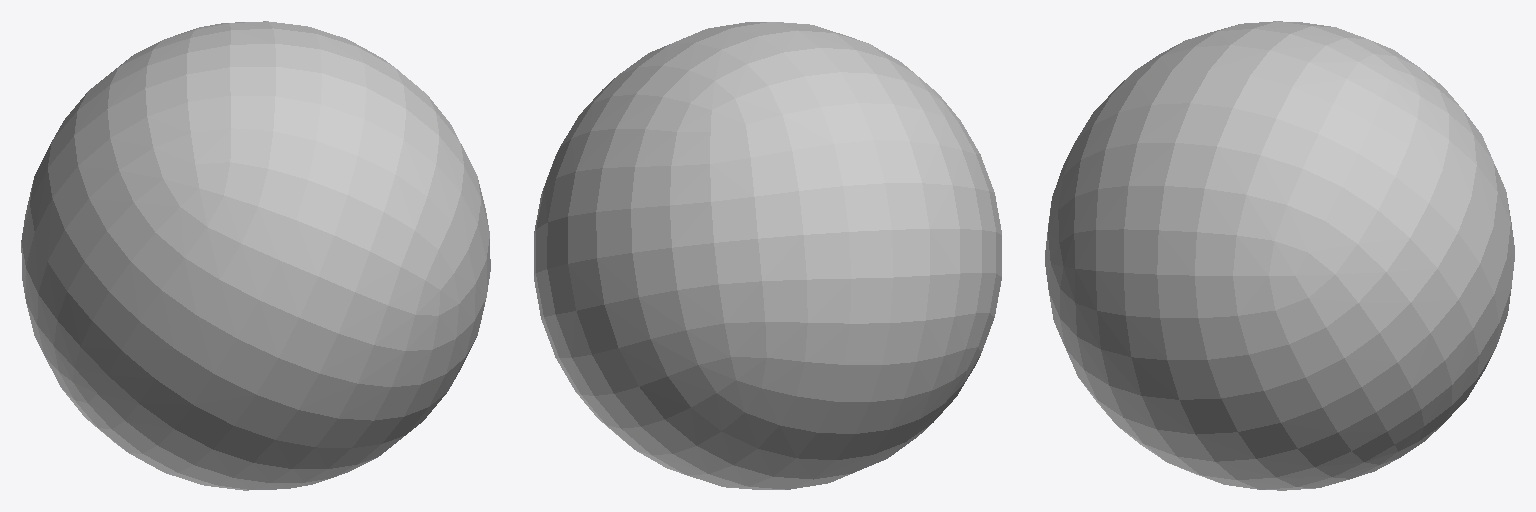
Rendered from sun.obj.
The picture shows the model from 3 angles: view 1: azimuth 30°, elevation 25°; view 2: azimuth 150°, elevation 25°; view 3: azimuth 270°, elevation 25°; orthographic projection.
Visible parts, largest first — view 1: Moon_Cube.002; view 2: Moon_Cube.002; view 3: Moon_Cube.002.
Part boxes in pixels (left/top/right/bottom): Moon_Cube.002: left=21, top=21, right=490, bottom=490; Moon_Cube.002: left=534, top=22, right=1001, bottom=489; Moon_Cube.002: left=1045, top=21, right=1514, bottom=490.
Bounding box in the file's own units: 47.87 × 47.8 × 47.96.